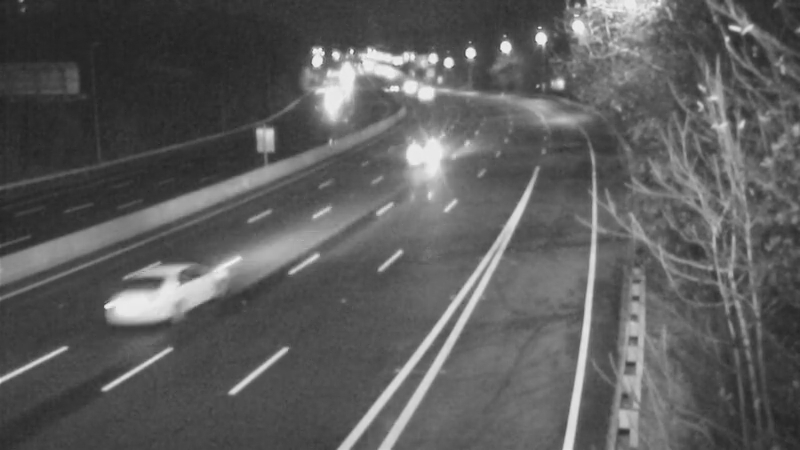vehicle: (391, 112, 471, 192), (109, 260, 189, 340), (386, 61, 436, 111), (366, 63, 416, 113), (400, 67, 450, 117)
